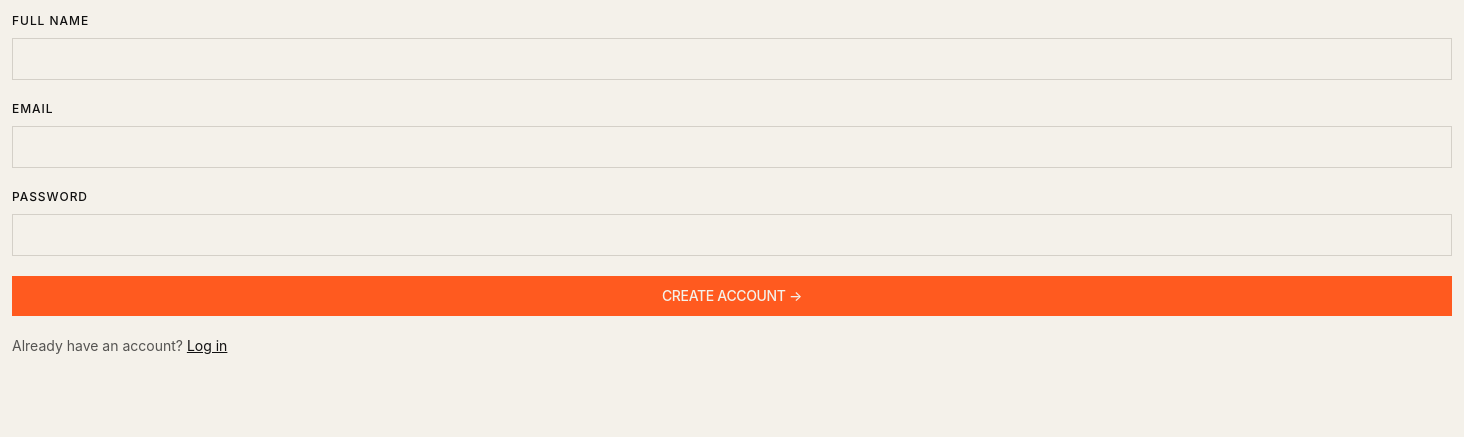
Scenario: RegisterForm errors › shows the server sentence for a failure that is not about a field
Step 1. Type "Riya Kapoor" into the field labelled "Full name" → (732, 59), box top-left (12, 38), bottom-right (1452, 80)
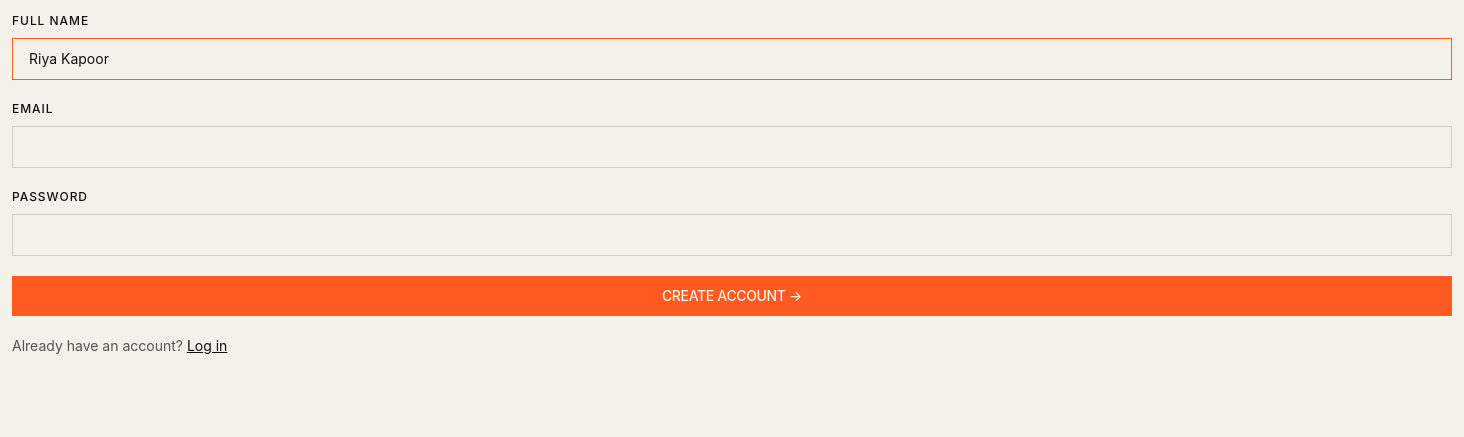
Step 2. Type "riya@example.com" into the field labelled "Email" → (732, 147), box top-left (12, 126), bottom-right (1452, 168)
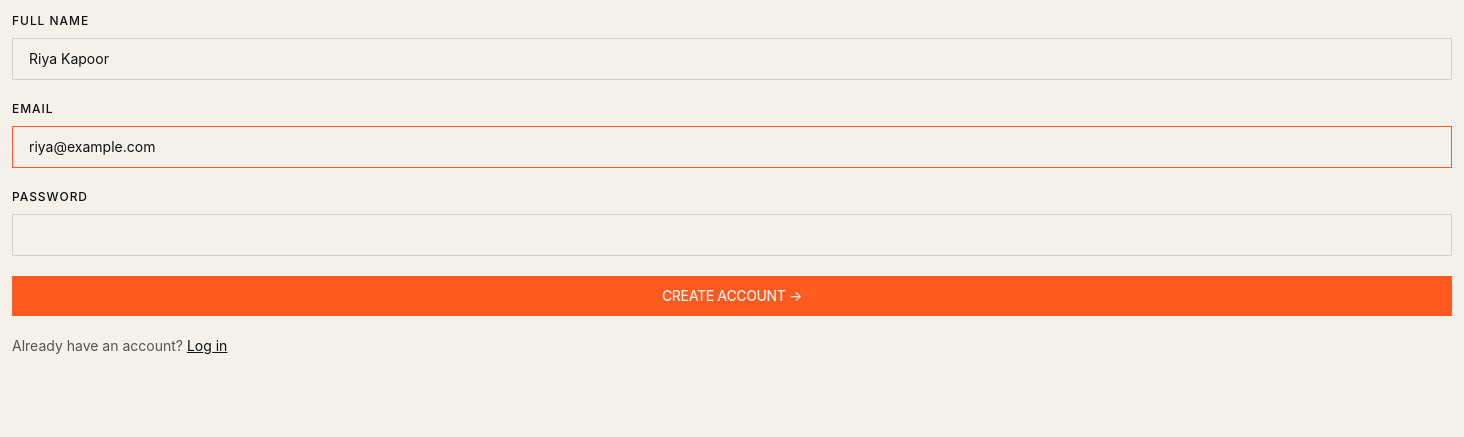
Step 3. Type "Test@1234" into the password field labelled "Password" → (732, 235), box top-left (12, 214), bottom-right (1452, 256)
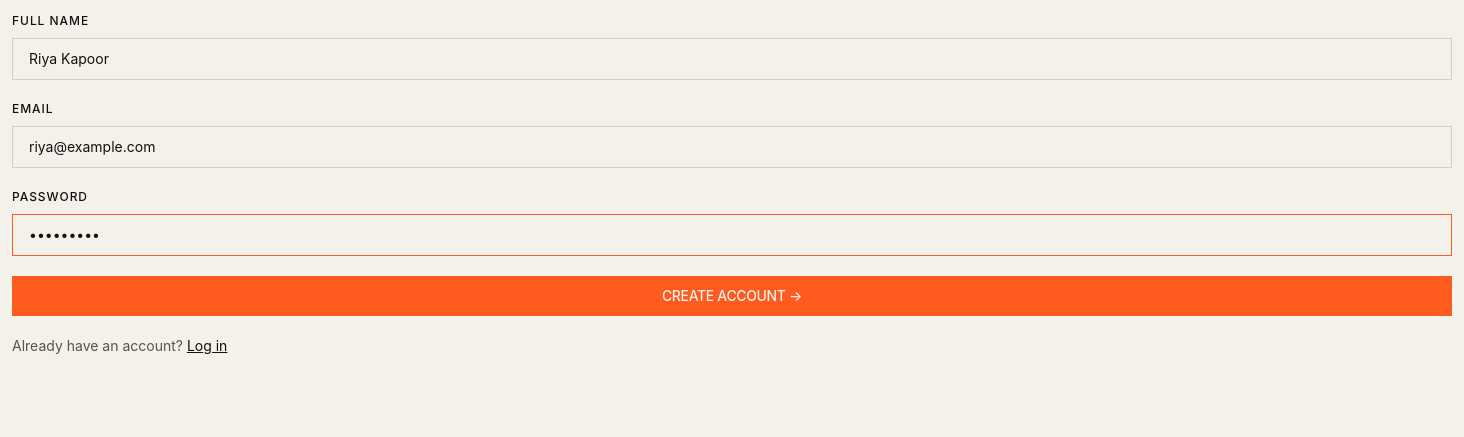
Step 4. Click the button "CREATE ACCOUNT →" → (732, 296), box top-left (12, 276), bottom-right (1452, 316)
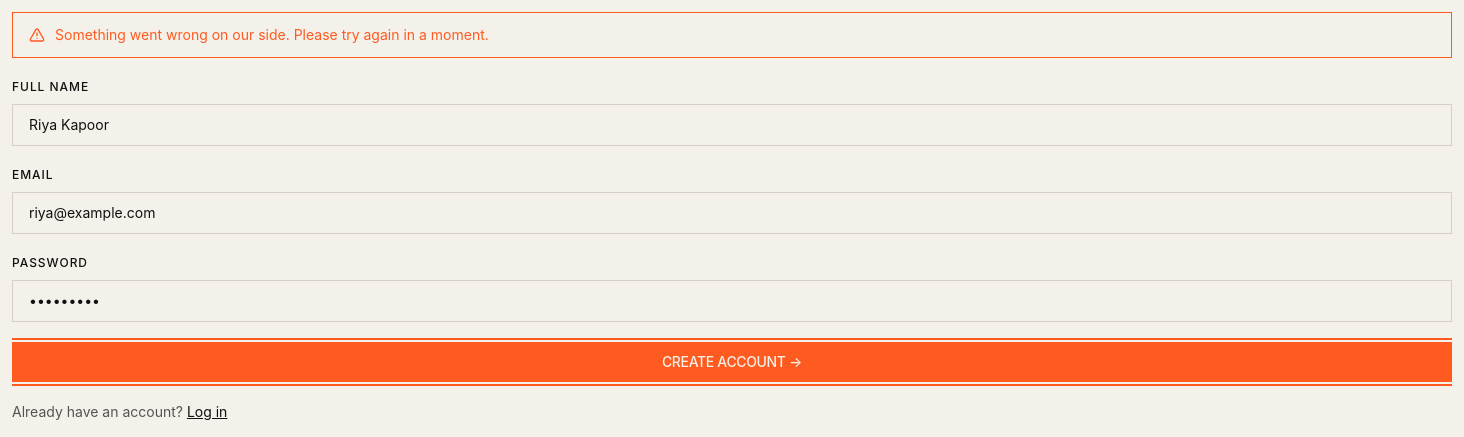
Expected: the text "Something went wrong on our side. Please try again in a moment." is shown, top-left (55, 25), bottom-right (489, 45)
